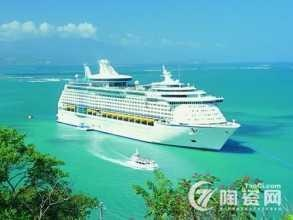youlun: (51, 56, 242, 154)
